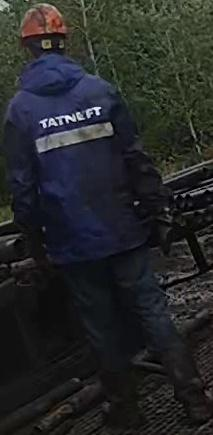gloves: (15, 205, 51, 262)
helmet: (17, 2, 68, 48)
vest: (2, 53, 162, 263)
